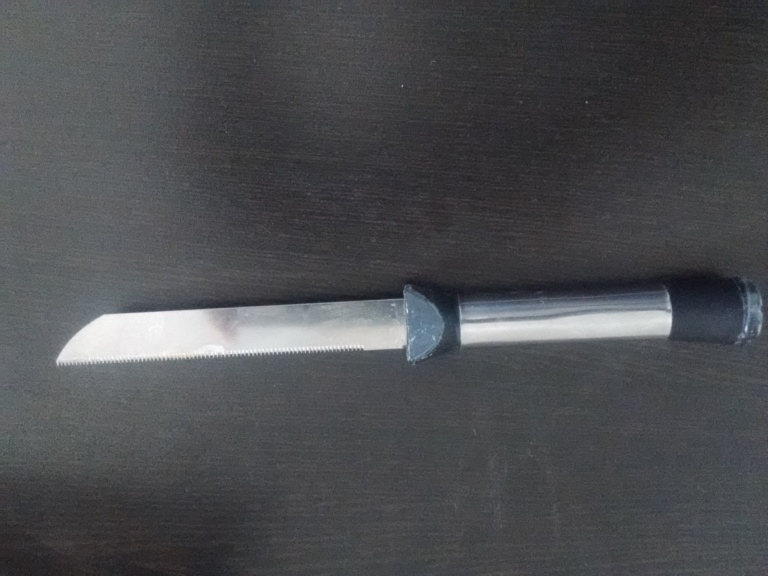knife: (57, 276, 765, 369)
